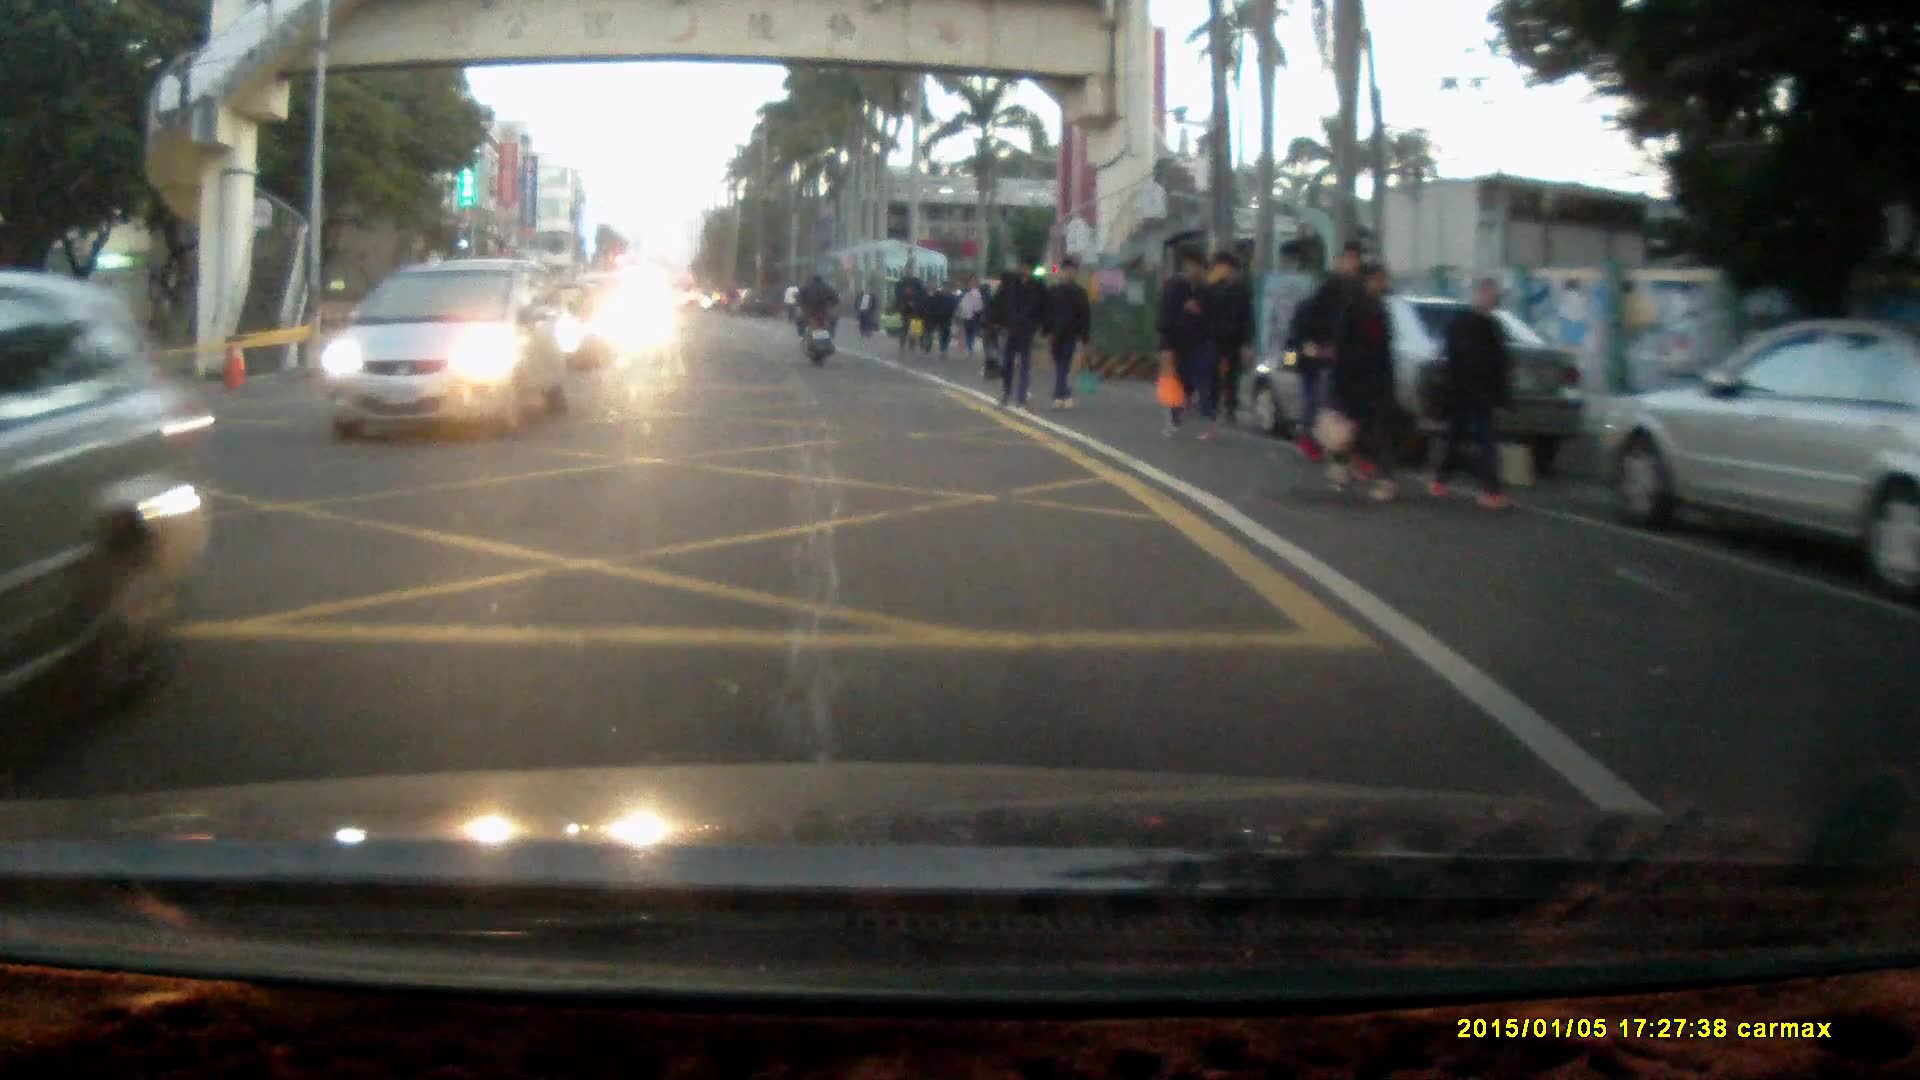pedestrian: (1429, 271, 1521, 514), (1326, 258, 1401, 505), (1303, 238, 1371, 469), (1154, 247, 1217, 443), (994, 253, 1054, 413), (1037, 250, 1092, 414), (1205, 250, 1255, 430), (890, 262, 922, 358), (955, 272, 986, 359), (913, 270, 943, 360), (854, 279, 877, 342)
rider: (795, 269, 839, 366)
vehicle: (1585, 319, 1920, 602), (1, 276, 217, 699), (1251, 297, 1587, 462), (317, 254, 576, 449)
